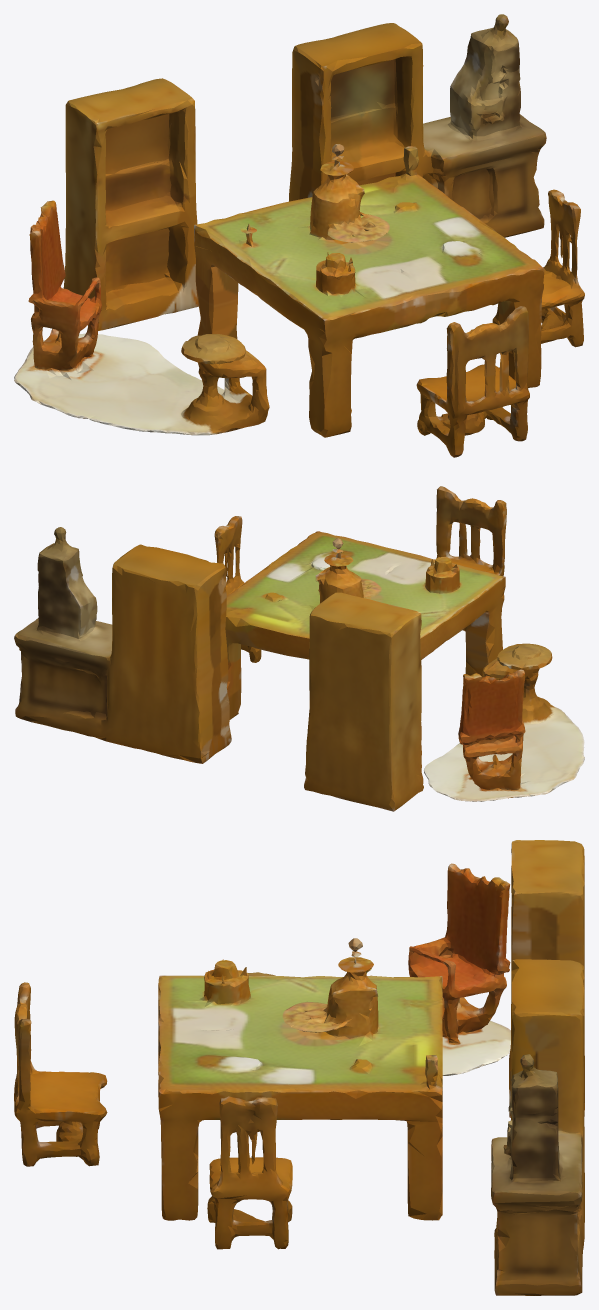
3 views of the same model, one above another, from view 1: azimuth 30°, elevation 25°; view 2: azimuth 150°, elevation 25°; view 3: azimuth 270°, elevation 25° (orthographic). The views are drawn at different scales.
Visible parts, largest first — view 1: 048; view 2: 048; view 3: 048.
Boxes of the visible parts, x1,y1,x2,y2 form: 048: (14, 14, 584, 457); 048: (14, 486, 584, 811); 048: (14, 840, 584, 1295).
Size of the model in its own units: 1.9 by 0.701 by 1.54.
Materials: 1 (1 with a texture image).
